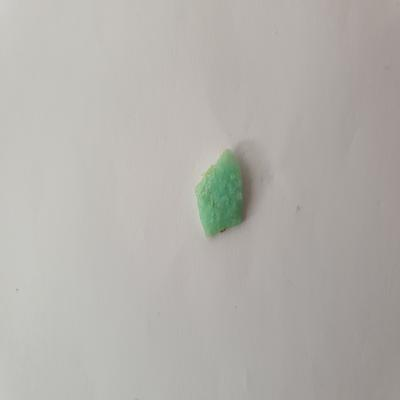plastic: (193, 144, 251, 242)
